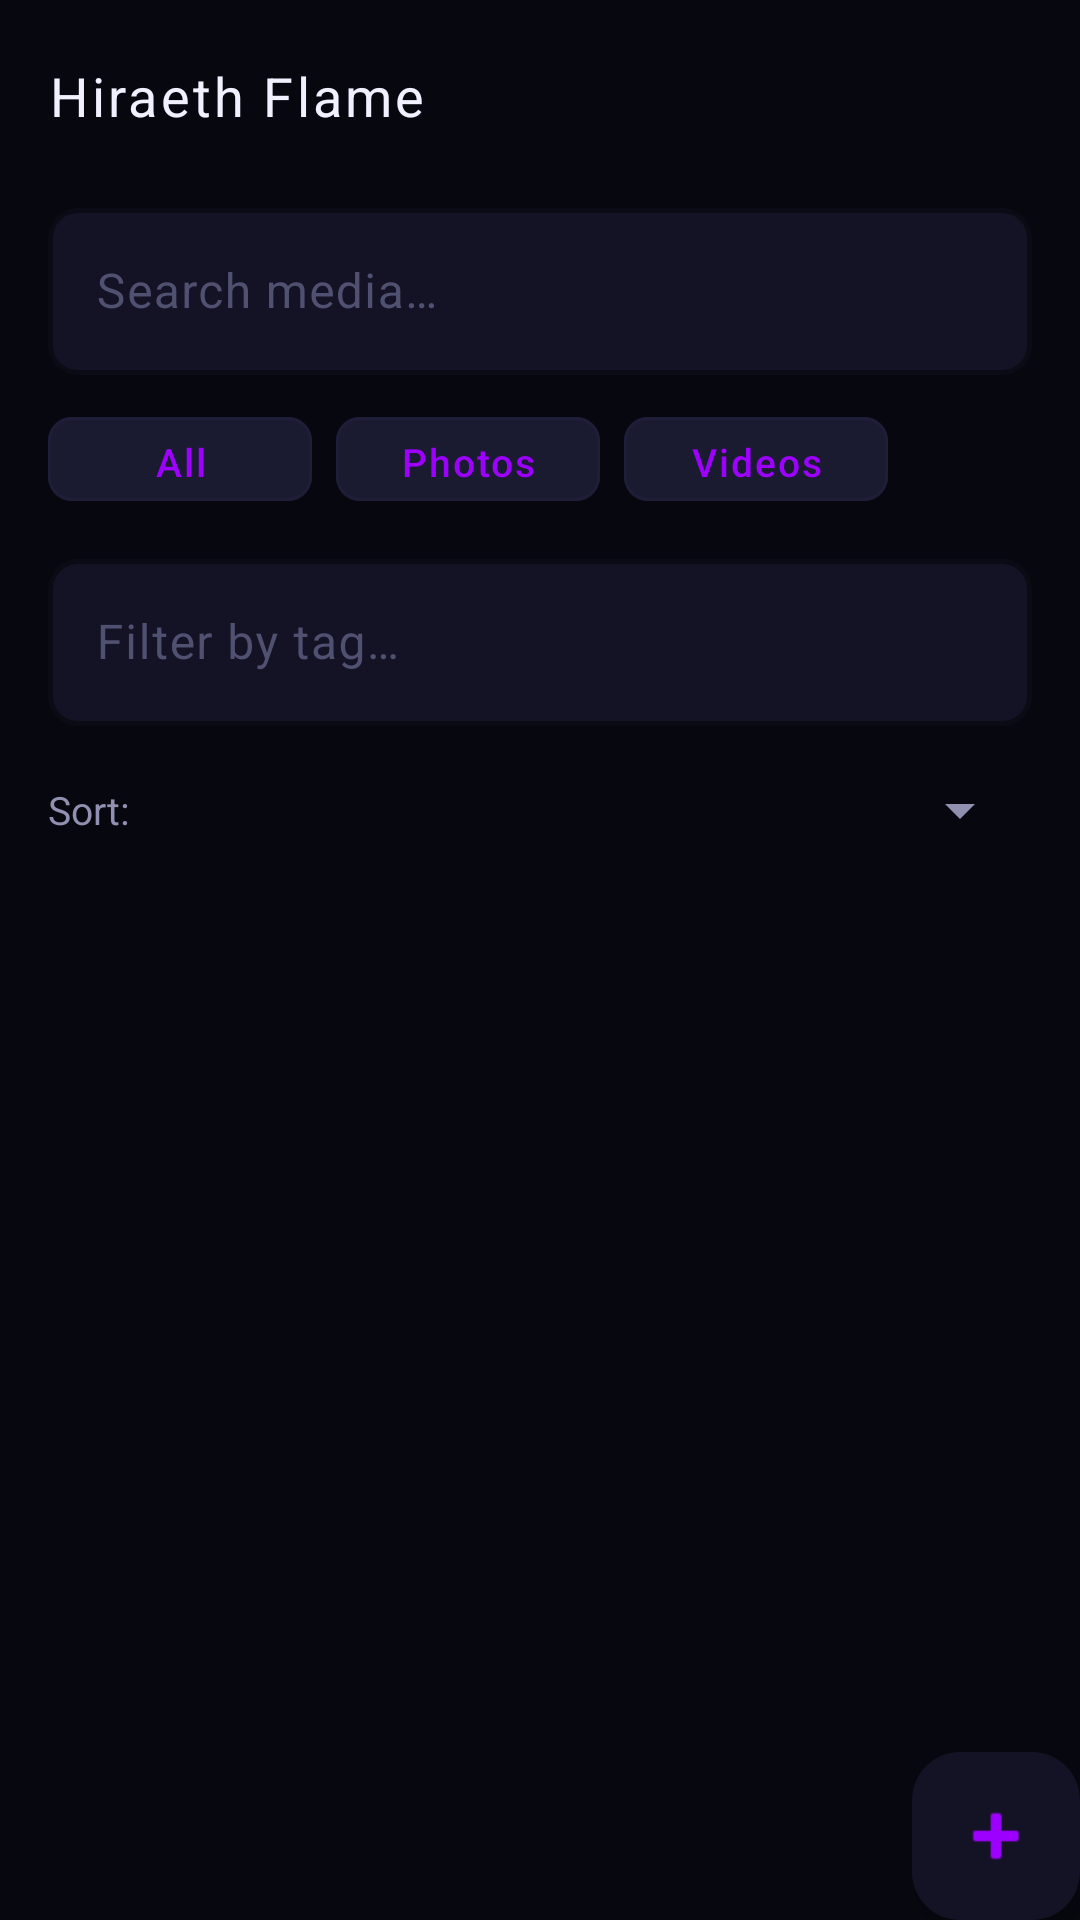

Screen size 1080*1920. Icon name, then its box in pixels as (x1, y1, x2, y2):
Import media: (912, 1752, 1080, 1920)
